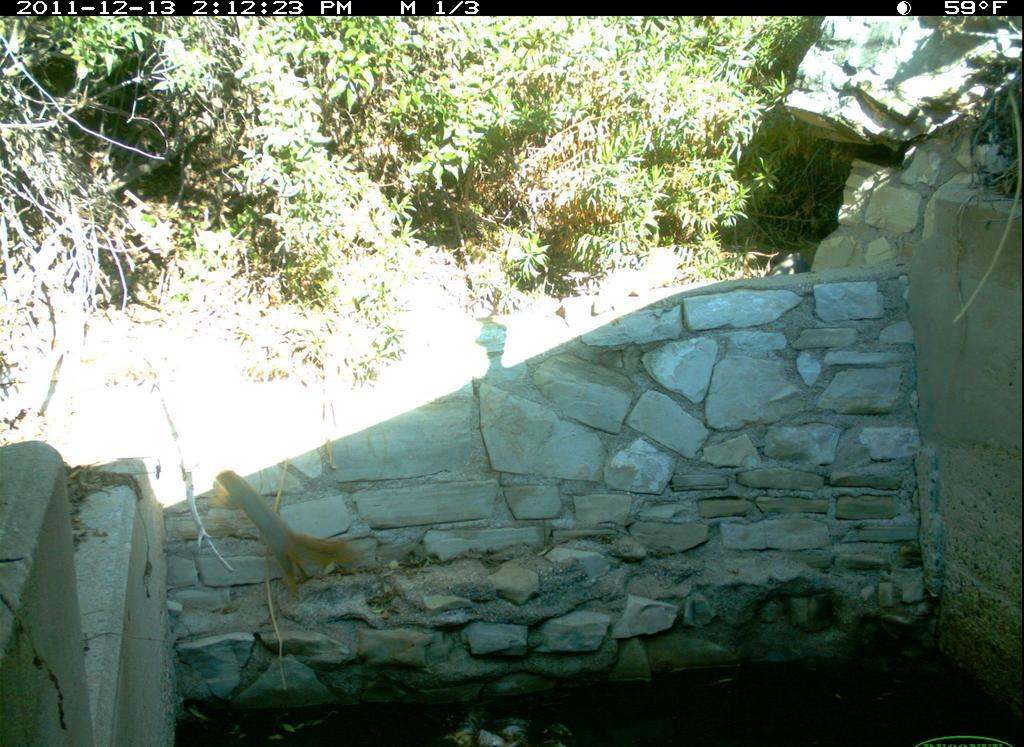squirrel: (200, 466, 362, 609)
